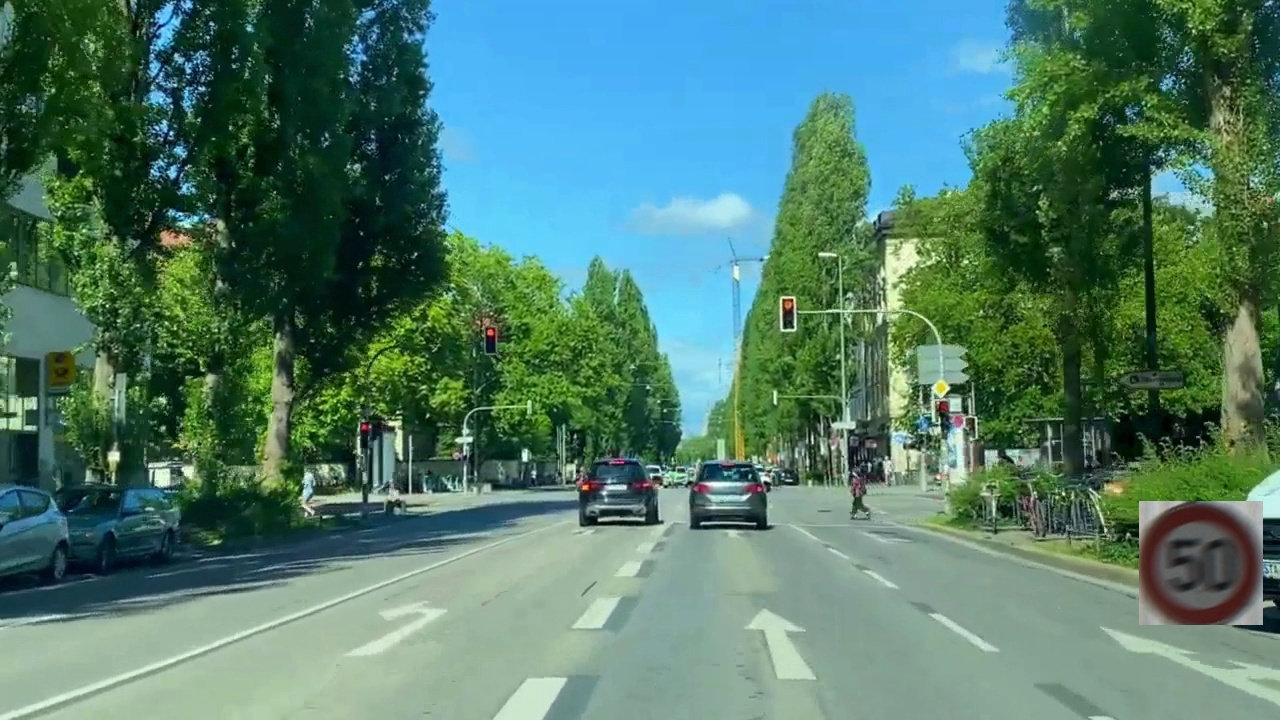Speed 50: (1139, 501, 1263, 625)
